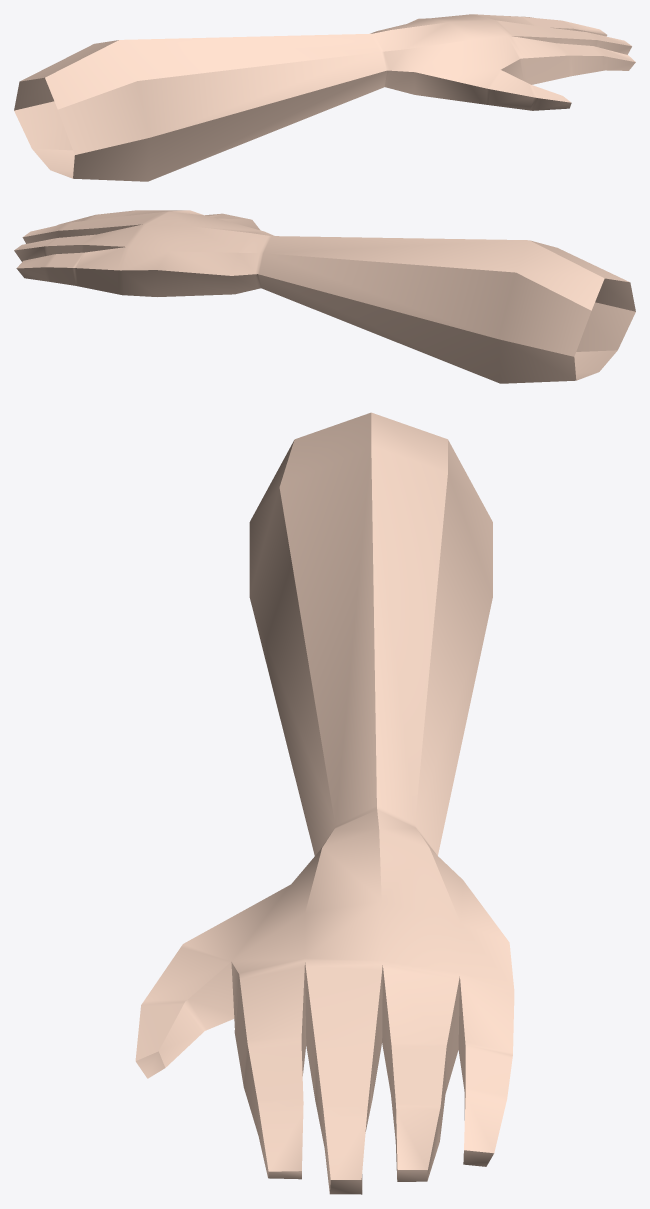
File: ManoIzquierda.fbx
3 views of the same model, one above another, from view 1: azimuth 30°, elevation 25°; view 2: azimuth 150°, elevation 25°; view 3: azimuth 270°, elevation 25° (orthographic). The views are drawn at different scales.
Parts seen in each view (by area): view 1: ManoIzquierda; view 2: ManoIzquierda; view 3: ManoIzquierda.
Boxes of the visible parts, x1,y1,x2,y2 form: ManoIzquierda: [14, 14, 635, 181]; ManoIzquierda: [14, 210, 635, 383]; ManoIzquierda: [135, 412, 514, 1194].
Bounding box in the file's own units: 2100 × 463 × 590.
1 material, 1 textured.
